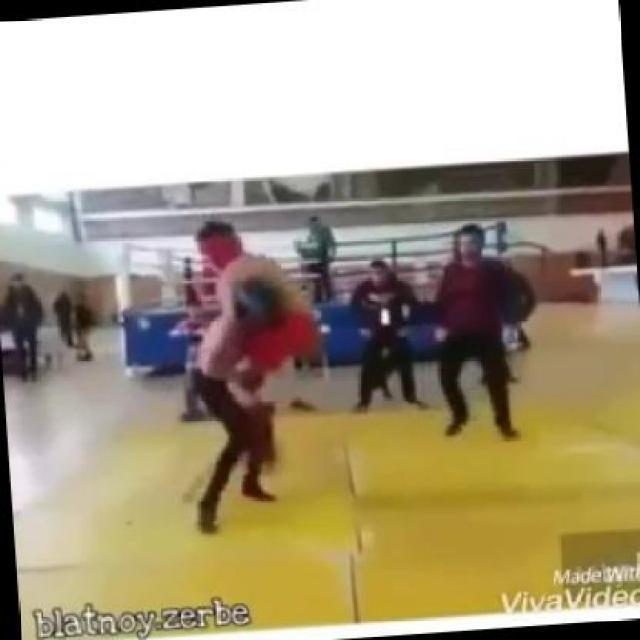fight: (182, 217, 330, 494)
